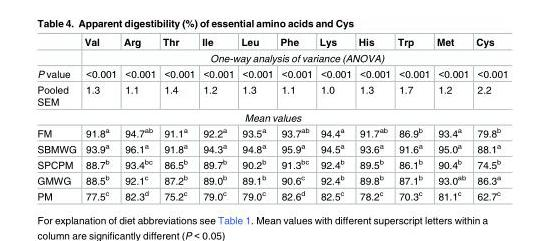table: (36, 37, 507, 201)
table column: (36, 37, 79, 201), (79, 37, 119, 201), (236, 37, 276, 201), (119, 37, 158, 201), (158, 37, 197, 201), (197, 37, 236, 201), (276, 37, 315, 201), (315, 37, 354, 201), (354, 37, 393, 201), (393, 37, 432, 201), (432, 37, 471, 201), (471, 37, 507, 201)
table column header: (36, 37, 507, 50)
table projected row header: (36, 109, 507, 124)
table row: (36, 82, 507, 109), (36, 65, 507, 82), (36, 124, 507, 140), (36, 140, 507, 156), (36, 156, 507, 172), (36, 50, 507, 65), (36, 109, 507, 124), (36, 172, 507, 187), (36, 187, 507, 201), (36, 37, 507, 50)
table spanning cell: (79, 50, 507, 65)
